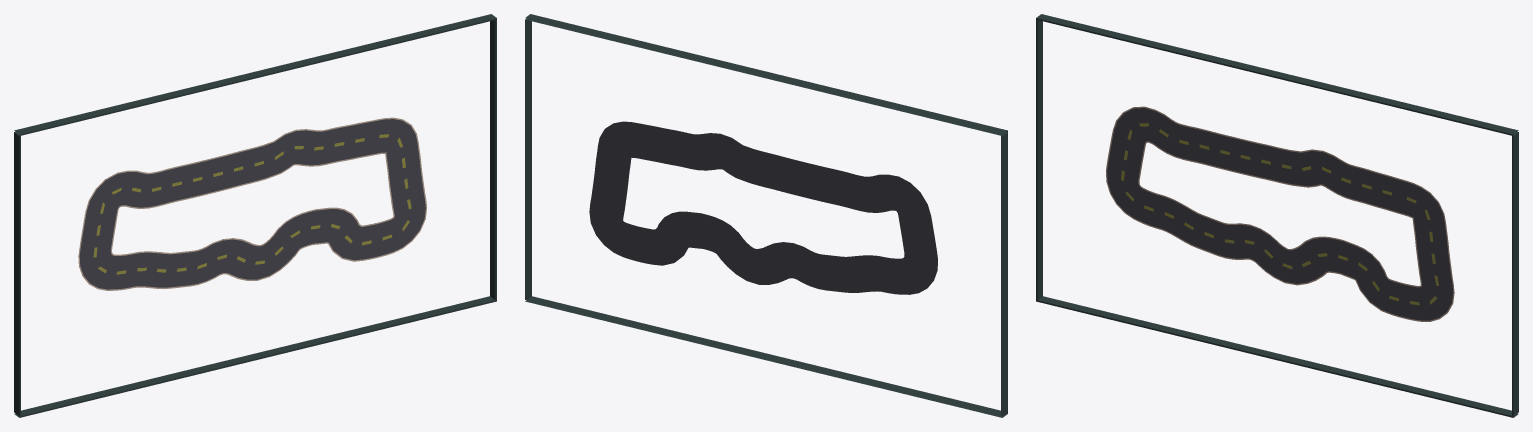
File: track.obj
The picture shows the model from 3 angles, left to right: view 1: azimuth 30°, elevation 25°; view 2: azimuth 150°, elevation 25°; view 3: azimuth 330°, elevation 25°; orthographic projection.
Bounding box in the file's own units: 15.11 × 8.58 × 0.3.
4 materials, 4 textured.
